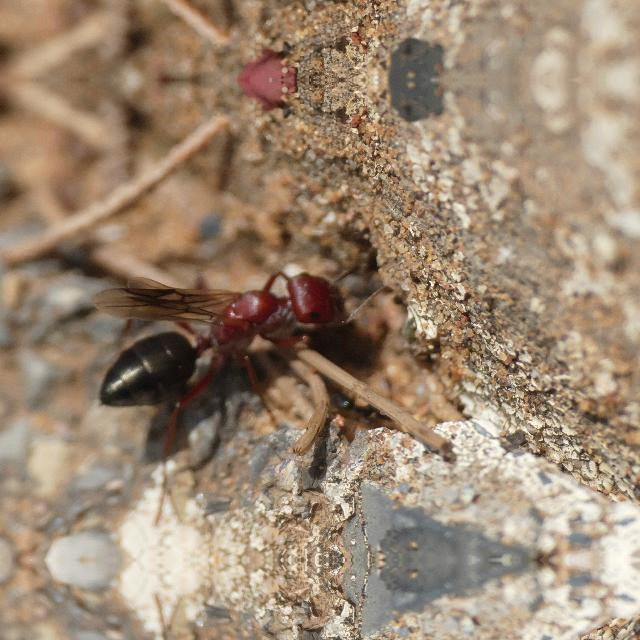Cataglyphis: (68, 252, 366, 433)
